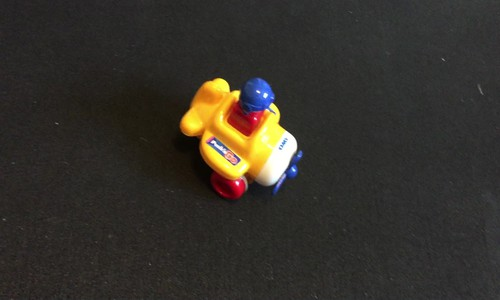toy: (177, 73, 300, 208)
